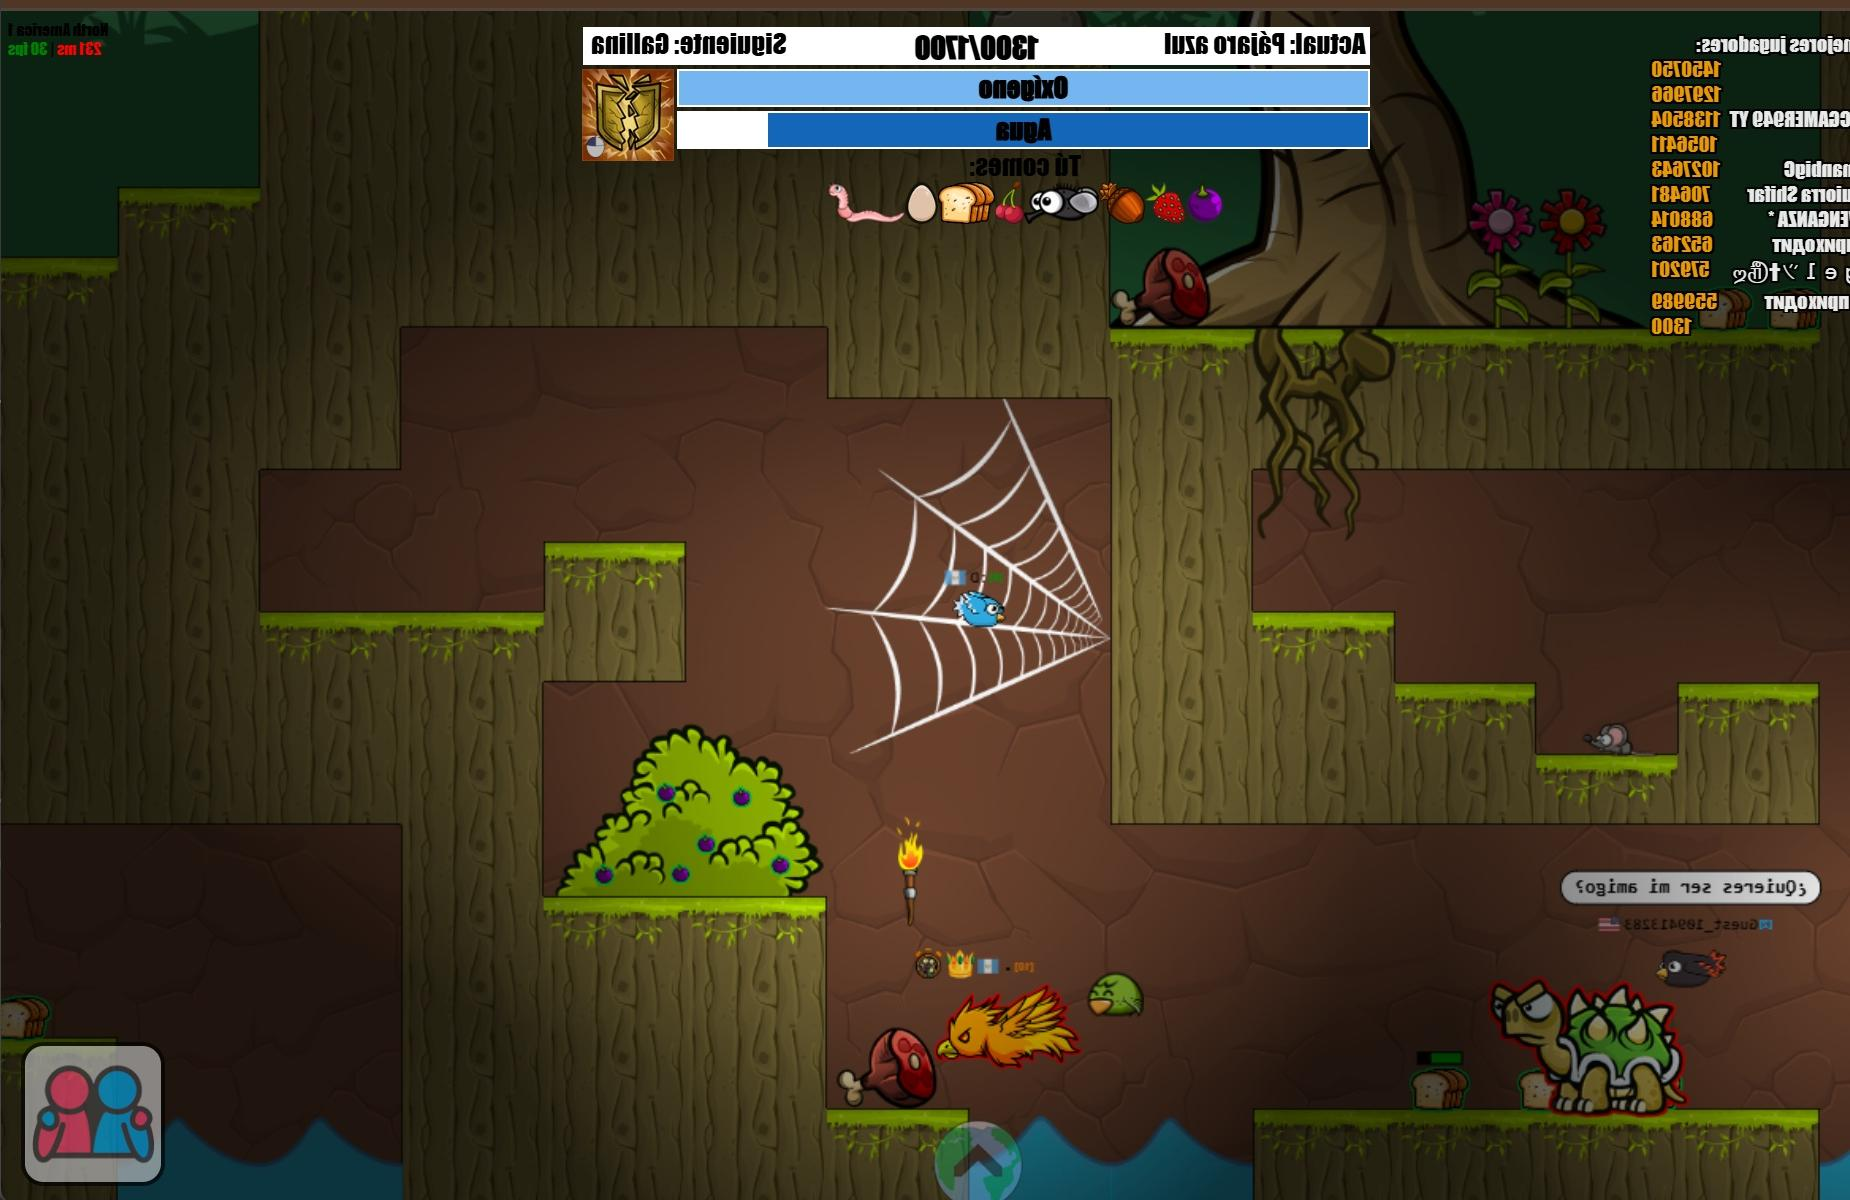agua: (970, 1113, 1251, 1199), (159, 1130, 403, 1194)
antorcha: (896, 833, 925, 870)
arandano: (1187, 184, 1221, 219), (770, 855, 790, 876), (731, 787, 751, 806), (657, 782, 675, 801), (670, 865, 690, 882), (595, 866, 613, 884), (697, 835, 715, 851)
arbusto: (555, 726, 822, 896)
avellana: (1101, 185, 1143, 225)
carne: (1110, 253, 1213, 331), (836, 1027, 930, 1111)
fenix: (937, 987, 1069, 1076)
flor: (1538, 192, 1606, 256), (1470, 191, 1531, 255)
fresa: (1146, 187, 1186, 223)
guinda: (996, 183, 1024, 226)
gusano: (826, 180, 903, 226)
huevo: (906, 181, 937, 223)
mascota: (1087, 969, 1147, 1019)
mirlo: (1654, 946, 1724, 993)
mosca: (1025, 183, 1097, 224)
p_azul: (955, 591, 1004, 630)
pan: (1409, 1066, 1471, 1113), (939, 182, 995, 223), (6, 991, 50, 1041), (1698, 288, 1750, 329), (1767, 287, 1819, 328), (1513, 1070, 1551, 1110)
raiz: (1257, 320, 1393, 537)
raton: (1581, 722, 1631, 756)
suelo: (409, 901, 820, 1198), (6, 616, 545, 818), (1112, 331, 1850, 477), (259, 237, 1109, 329), (1246, 1106, 1815, 1200), (1112, 761, 1673, 825), (1116, 681, 1529, 759), (543, 543, 686, 681), (1110, 473, 1248, 615), (1677, 681, 1813, 821), (1116, 615, 1389, 683)
tela: (841, 406, 1106, 756)
tortuga: (1489, 979, 1684, 1117)
